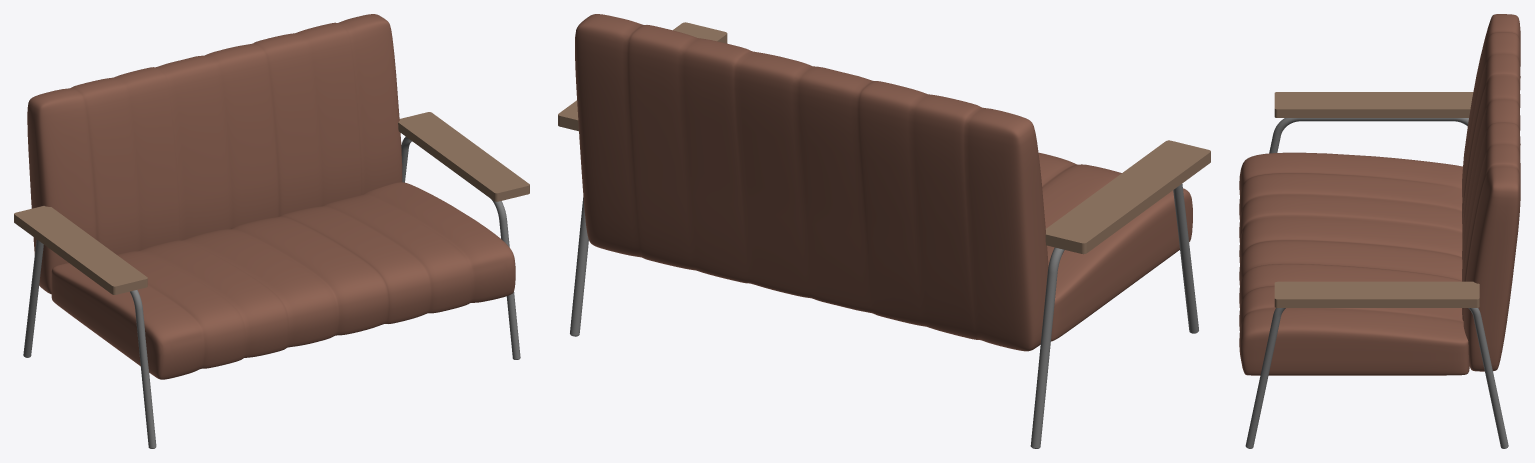
File: 730_sofa_2seat.glb
3 views of the same model, side by side, from view 1: azimuth 30°, elevation 25°; view 2: azimuth 150°, elevation 25°; view 3: azimuth 270°, elevation 25° (orthographic). The views are drawn at different scales.
Visible parts, largest first — view 1: Body; view 2: Body; view 3: Body.
Boxes of the visible parts, x1,y1,x2,y2 form: Body: (14, 14, 529, 448); Body: (558, 14, 1210, 448); Body: (1239, 14, 1520, 448).
Size of the model in its own units: 1.54 by 0.8994 by 0.8807.
